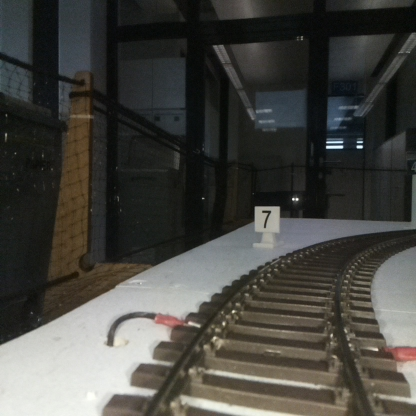white-stop-7: (254, 206, 279, 244)
